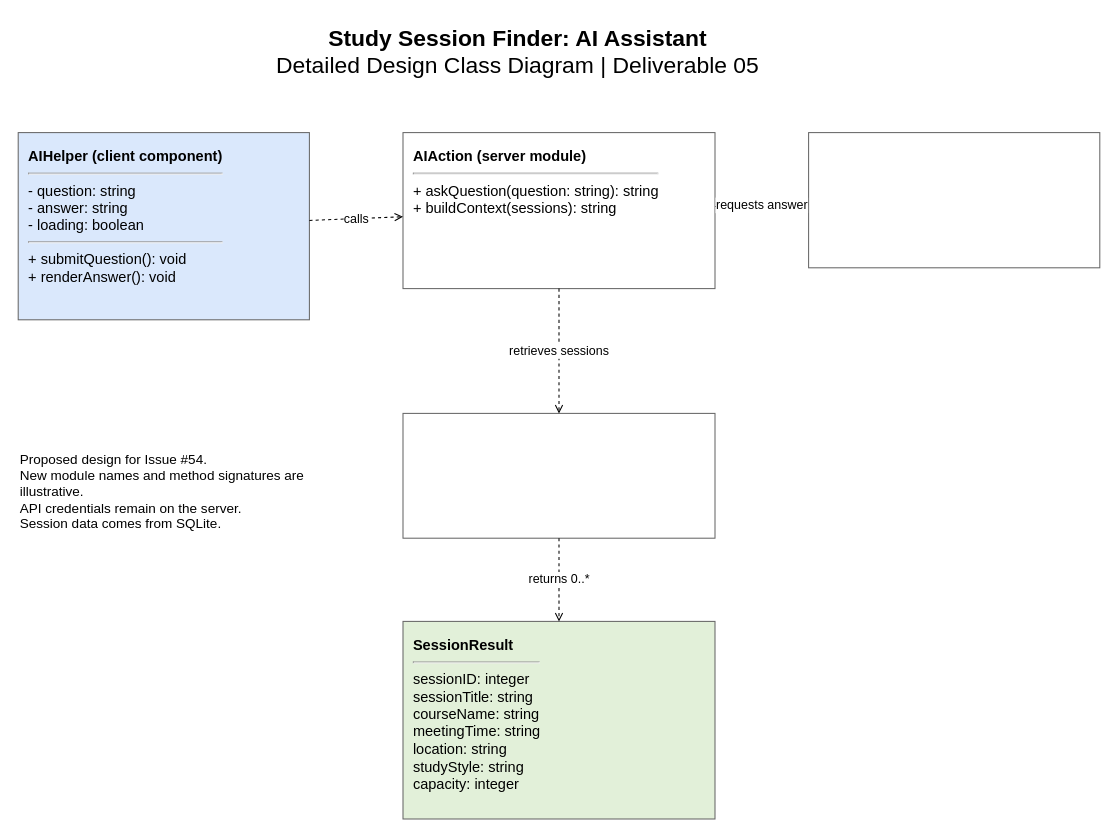
Image size: 1118x837. Some labels were removed from this diagram. Each missing label, with the centre of its shape:
"db.js (existing server module) + getSessions(): SessionResult[]" goes at [558,475].
"PatriotAIClient (server module) + requestAnswer(question, context): string" goes at [954,200].
